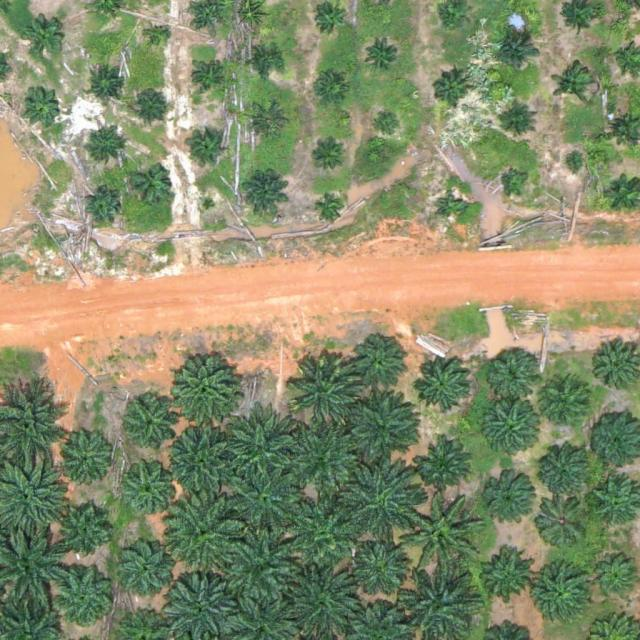Healthy: (289, 352, 367, 431), (284, 419, 362, 498), (287, 499, 365, 578), (225, 530, 303, 609), (228, 462, 306, 541), (224, 412, 302, 491), (164, 425, 242, 504), (340, 464, 418, 543), (401, 497, 479, 576), (171, 494, 249, 572), (343, 388, 421, 466), (167, 354, 238, 425), (54, 569, 116, 632), (55, 426, 117, 488), (534, 567, 596, 629), (121, 538, 176, 593), (124, 399, 179, 454), (353, 340, 408, 395), (356, 542, 411, 597), (483, 404, 538, 459), (486, 476, 541, 531), (478, 546, 533, 601), (535, 493, 590, 548), (540, 375, 595, 430), (125, 461, 179, 516), (58, 507, 112, 562), (418, 437, 472, 492), (415, 356, 469, 411), (552, 63, 599, 110)
Small: (484, 346, 539, 401), (538, 443, 593, 498), (242, 169, 289, 217), (126, 161, 173, 209), (495, 31, 542, 78), (83, 128, 123, 168), (432, 72, 472, 112), (366, 35, 405, 75), (20, 86, 60, 125), (188, 129, 227, 169), (83, 189, 122, 229), (250, 103, 289, 143), (23, 18, 62, 57), (88, 67, 127, 106), (130, 85, 169, 124), (500, 105, 539, 144), (313, 2, 344, 34), (316, 73, 347, 105), (503, 166, 534, 198), (437, 192, 468, 224), (374, 109, 405, 141), (251, 47, 282, 78), (313, 143, 344, 174), (191, 61, 222, 92), (316, 193, 347, 224), (562, 152, 586, 176), (148, 27, 172, 51)
